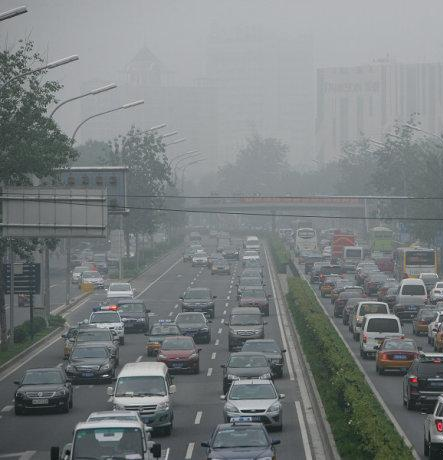bus: (390, 244, 438, 285), (365, 225, 395, 256), (291, 228, 317, 258)
car: (106, 360, 179, 436), (49, 421, 161, 460), (199, 413, 282, 460), (219, 378, 286, 431), (78, 409, 152, 452), (12, 368, 76, 416), (400, 350, 443, 413), (219, 351, 276, 394), (356, 312, 406, 359), (224, 306, 271, 353), (372, 334, 424, 375), (70, 326, 123, 366), (62, 344, 116, 382), (240, 338, 289, 379), (155, 335, 203, 376), (83, 305, 128, 346), (351, 301, 394, 343), (144, 318, 187, 356), (419, 393, 443, 458), (62, 325, 103, 359), (172, 312, 213, 345), (115, 299, 152, 334), (178, 287, 217, 320), (393, 277, 430, 311), (237, 287, 274, 318), (341, 297, 373, 328), (103, 282, 138, 310), (334, 292, 365, 317), (235, 278, 267, 302), (340, 244, 367, 272), (409, 308, 436, 335), (329, 281, 359, 305), (237, 268, 267, 290), (319, 263, 345, 288), (415, 271, 440, 297), (77, 270, 105, 293), (318, 276, 345, 299), (425, 310, 442, 346), (377, 277, 401, 301), (341, 285, 366, 308), (364, 273, 389, 296), (243, 235, 265, 259), (308, 264, 333, 285), (354, 262, 379, 281), (304, 255, 324, 277), (70, 266, 93, 285), (210, 259, 234, 276), (240, 250, 262, 267), (191, 249, 210, 268), (91, 253, 108, 274), (428, 282, 443, 303), (181, 247, 199, 263), (221, 246, 240, 261), (216, 242, 233, 253)
